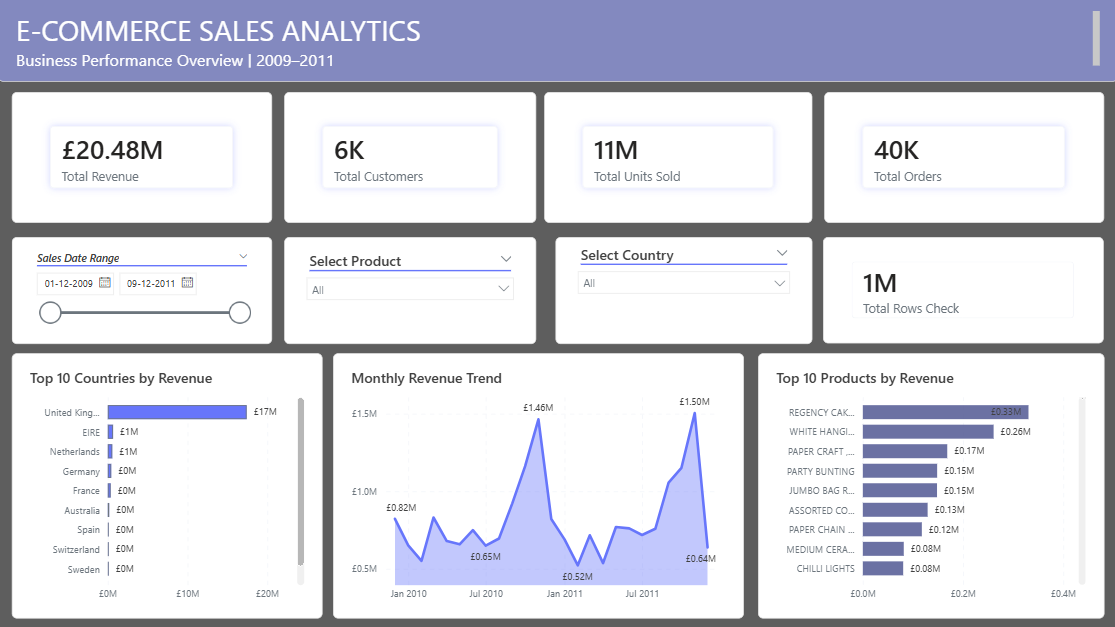

What the dashboard file says about the page in this screenshot:
{"tool":"powerbi","page":{"name":"E-COMMERCE SALES ANALYTICS","canvas":[1280,720],"ordinal":0},"visuals":[{"type":"cardVisual","fields":{"Data":["cleaned_sales.Total Revenue"]},"box":[15.1,108.4,297.8,149.6],"z":0},{"type":"cardVisual","fields":{"Data":["cleaned_sales.Total Orders"]},"box":[944.1,108.4,319.7,149.6],"z":1000},{"type":"cardVisual","fields":{"Data":["cleaned_sales.Total Customers"]},"box":[326.6,108.4,288.2,149.6],"z":2000},{"type":"lineChart","title":"Monthly Revenue Trend","fields":{"Category":["cleaned_sales.InvoiceDate.Variation.Date Hierarchy.Year","cleaned_sales.InvoiceDate.Variation.Date Hierarchy.Month"],"Y":["cleaned_sales.Total Revenue"]},"box":[382.8,407.5,469.3,303.3],"z":3000},{"type":"cardVisual","fields":{"Data":["cleaned_sales.Total Units Sold"]},"box":[624.4,108.4,306,149.6],"z":4000},{"type":"clusteredBarChart","title":"Top 10 Countries by Revenue","fields":{"Y":["cleaned_sales.Total Revenue"],"Category":["cleaned_sales.Country"]},"box":[15.1,407.5,355.4,303.3],"z":5000},{"type":"slicer","fields":{"Values":["cleaned_sales.InvoiceDate"]},"box":[15.1,274.4,297.8,122.1],"z":6000},{"type":"slicer","fields":{"Values":["cleaned_sales.Country"]},"box":[636.7,274.4,293.7,122.1],"z":7000},{"type":"slicer","fields":{"Values":["cleaned_sales.Description"]},"box":[326.6,274.4,288.2,122.1],"z":8000},{"type":"textbox","box":[0,0,1280.3,96.9],"z":9000},{"type":"clusteredBarChart","title":"Top 10 Products by Revenue","fields":{"Category":["cleaned_sales.Description"],"Y":["cleaned_sales.Total Revenue"]},"box":[868.6,407.8,395.7,302.8],"z":10000},{"type":"cardVisual","fields":{"Data":["cleaned_sales.Total Rows Check"]},"box":[943.4,273.9,320.9,121.9],"z":11000}]}

Visuals, with their boxes in screenshot pixels (x1, y1, x2, y2), scaled from the page's 1280x720 canvas onto the 1115x627 screenshot:
cardVisual - cleaned_sales.Total Revenue: left=13, top=94, right=273, bottom=225
cardVisual - cleaned_sales.Total Orders: left=822, top=94, right=1101, bottom=225
cardVisual - cleaned_sales.Total Customers: left=284, top=94, right=536, bottom=225
"Monthly Revenue Trend" lineChart: left=333, top=355, right=742, bottom=619
cardVisual - cleaned_sales.Total Units Sold: left=544, top=94, right=810, bottom=225
"Top 10 Countries by Revenue" clusteredBarChart: left=13, top=355, right=323, bottom=619
slicer - cleaned_sales.InvoiceDate: left=13, top=239, right=273, bottom=345
slicer - cleaned_sales.Country: left=555, top=239, right=810, bottom=345
slicer - cleaned_sales.Description: left=284, top=239, right=536, bottom=345
textbox: left=0, top=0, right=1114, bottom=84
"Top 10 Products by Revenue" clusteredBarChart: left=757, top=355, right=1101, bottom=619
cardVisual - cleaned_sales.Total Rows Check: left=822, top=239, right=1101, bottom=345
